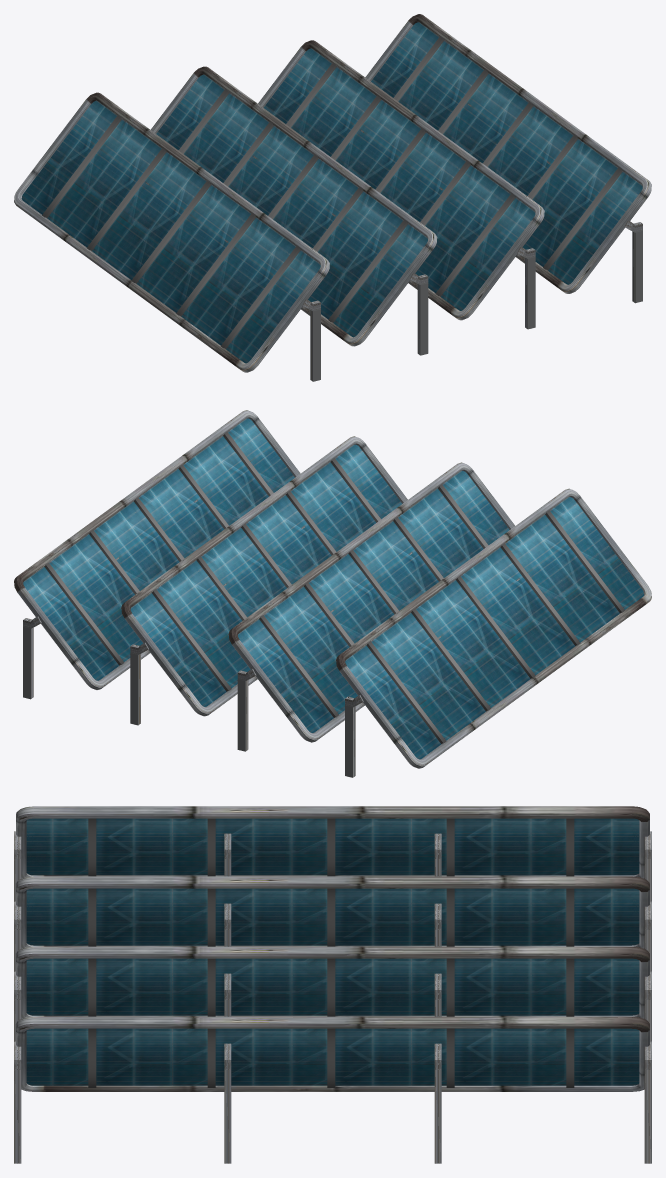
The model's file is static.fbx.
The picture shows the model from 3 angles, top to bottom: view 1: azimuth 30°, elevation 25°; view 2: azimuth 150°, elevation 25°; view 3: azimuth 270°, elevation 25°; orthographic projection. The views are drawn at different scales.
Parts seen in each view (by area): view 1: Sweep, Plane_2, Plane_5, Plane_3, Plane_4, Plane_20, Plane_8, Plane_14, Sweep_6, Sweep_8, Sweep_4, Plane_16 (+28 smaller); view 2: Sweep, Plane_2, Plane_5, Plane_3, Plane_4, Plane_23, Plane_17, Plane_11, Sweep_6, Sweep_8, Sweep_4, Plane_8 (+28 smaller); view 3: Sweep_8, Sweep_4, Sweep_6, Sweep, Plane_11, Plane_17, Plane_23, Plane_5, Plane_2, Plane_8, Plane_14, Plane_20 (+40 smaller).
Part boxes in pixels (<box>): Sweep: <box>14,92,329,372</box>; Plane_2: <box>181,217,295,345</box>; Plane_5: <box>47,119,161,247</box>; Plane_3: <box>136,184,251,312</box>; Plane_4: <box>92,152,206,279</box>; Plane_20: <box>523,139,617,266</box>; Plane_8: <box>308,191,403,319</box>; Plane_14: <box>415,165,510,293</box>; Sweep_6: <box>258,40,544,320</box>; Sweep_8: <box>365,14,651,293</box>; Sweep_4: <box>150,66,437,346</box>; Plane_16: <box>335,99,421,189</box>; Sweep: <box>336,488,651,768</box>; Plane_2: <box>505,514,619,642</box>; Plane_5: <box>371,612,485,740</box>; Plane_3: <box>460,547,575,675</box>; Plane_4: <box>416,580,530,707</box>; Plane_23: <box>49,534,142,661</box>; Plane_17: <box>156,560,250,688</box>; Plane_11: <box>264,586,357,714</box>; Sweep_6: <box>121,436,407,716</box>; Sweep_8: <box>14,410,300,689</box>; Sweep_4: <box>228,462,514,742</box>; Plane_8: <box>398,488,483,577</box>; Sweep_8: <box>16,1016,649,1091</box>; Sweep_4: <box>16,876,649,948</box>; Sweep_6: <box>16,946,649,1018</box>; Sweep: <box>16,806,649,878</box>; Plane_11: <box>454,888,566,945</box>; Plane_17: <box>454,958,566,1015</box>; Plane_23: <box>454,1028,566,1085</box>; Plane_5: <box>454,818,566,875</box>; Plane_2: <box>96,818,207,875</box>; Plane_8: <box>96,888,207,945</box>; Plane_14: <box>96,958,207,1015</box>; Plane_20: <box>96,1028,207,1085</box>.
Bounding box in the file's own units: 596 × 159 × 601.
Materials: 3 (3 with a texture image).
